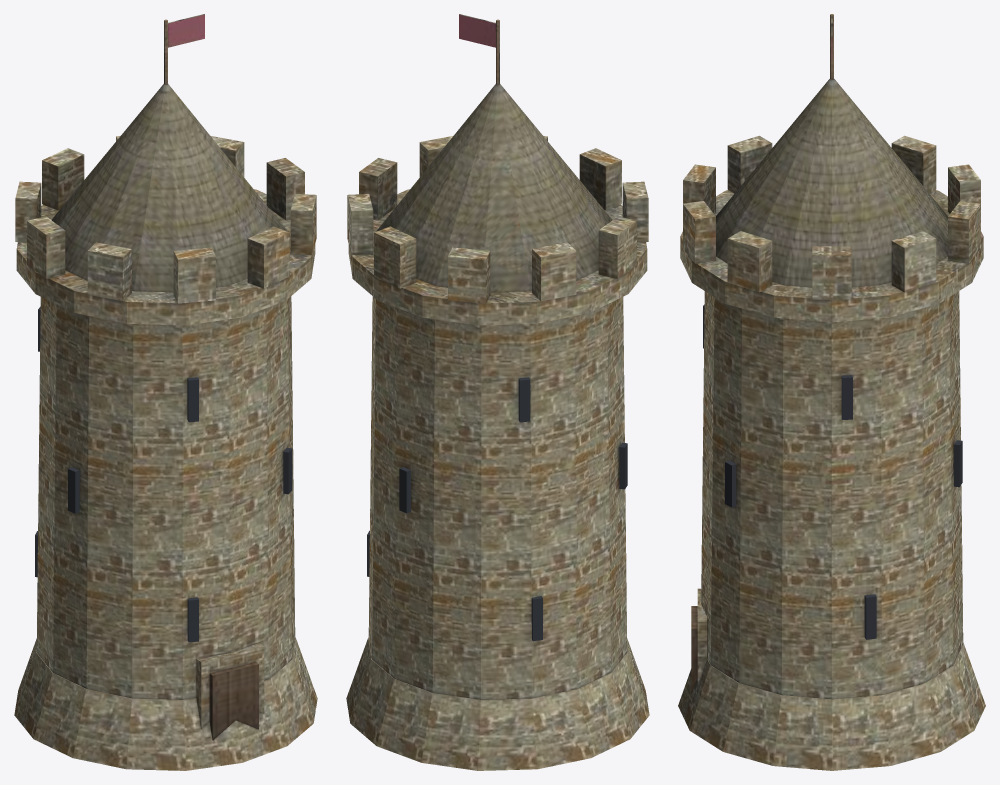
File: tower_stone.glb
The picture shows the model from 3 angles, left to right: view 1: azimuth 30°, elevation 25°; view 2: azimuth 150°, elevation 25°; view 3: azimuth 270°, elevation 25°; orthographic projection.
Parts seen in each view (by area): view 1: tower_stone; view 2: tower_stone; view 3: tower_stone.
Part boxes in pixels (<box>): tower_stone: <box>14,14,317,770</box>; tower_stone: <box>346,14,649,770</box>; tower_stone: <box>678,14,985,770</box>.
Size of the model in its own units: 6.3 by 15.6 by 6.3.
2 materials, 1 textured.
